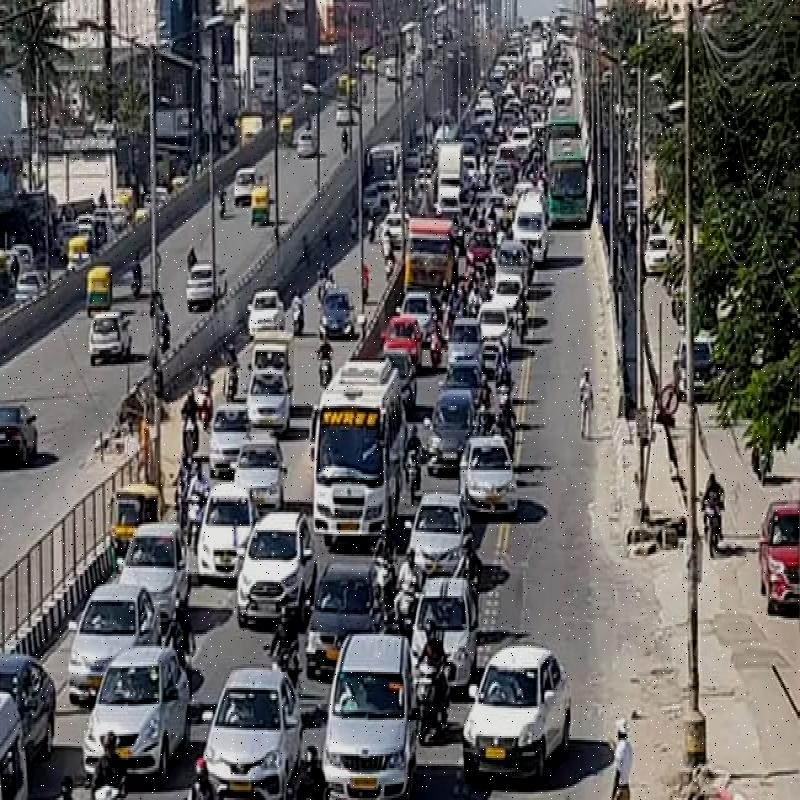auto: (100, 471, 168, 569)
bike: (178, 382, 204, 468), (219, 338, 246, 406)
car: (194, 636, 332, 800), (70, 636, 206, 797), (450, 629, 582, 788), (305, 533, 395, 679), (239, 491, 319, 624), (197, 469, 263, 596), (453, 424, 520, 518), (240, 353, 306, 434), (438, 303, 488, 377)
